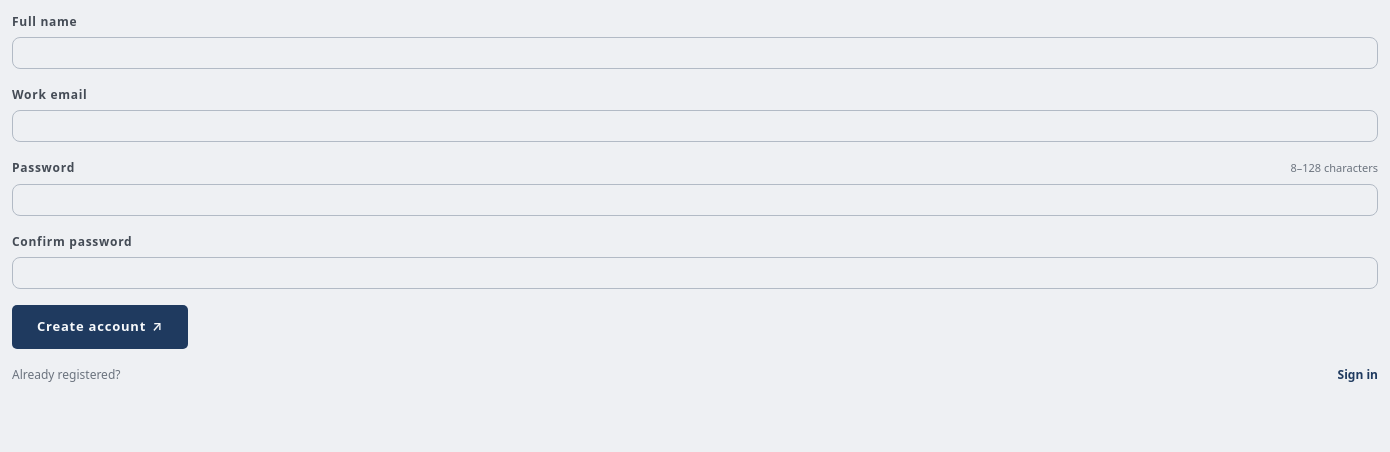
Test: authentication forms › submits a verified-email signup and shows the enumeration-safe response
Type "Alex Rivera" into the field labelled "Full name" at (695, 53), box [12,37,1378,69]
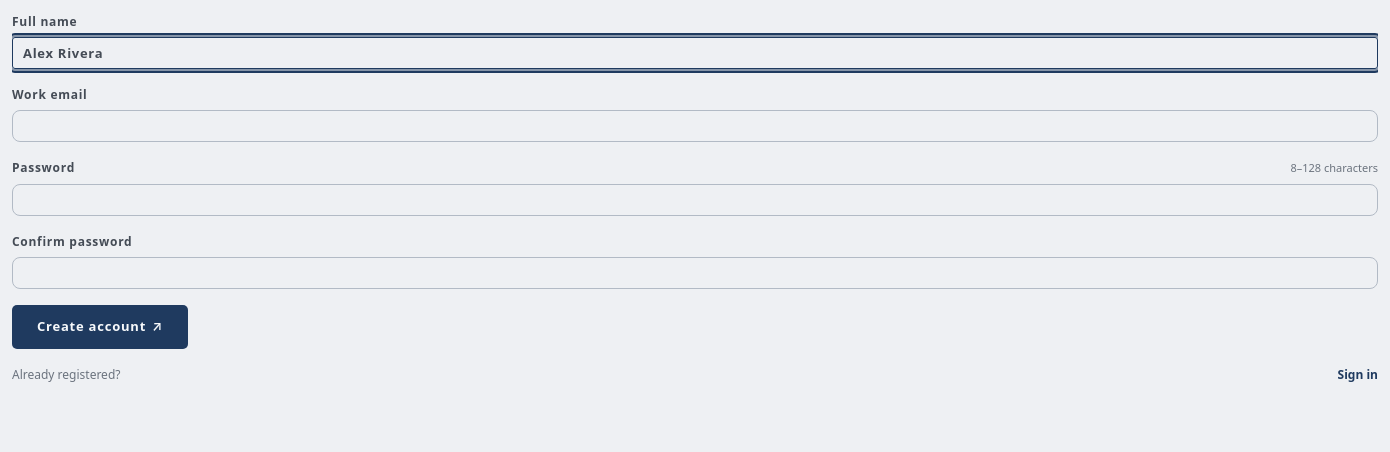
Type "Alex@Example.com" into the field labelled "Work email" at (695, 126), box [12,110,1378,142]
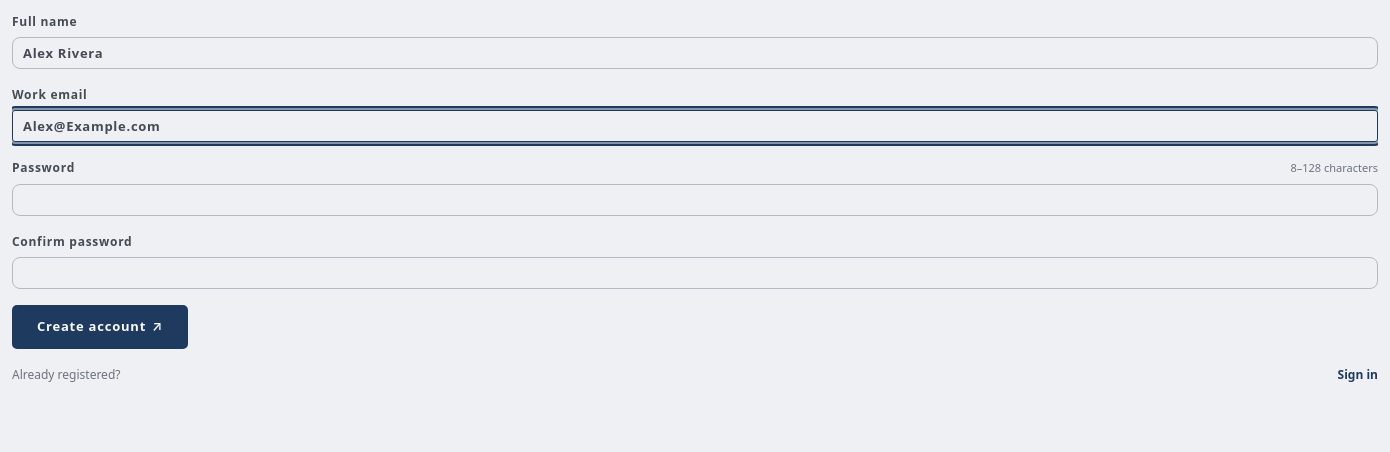
Type "test-password-123" into the password field labelled "Password 8–128 characters" at (695, 200), box [12,184,1378,216]
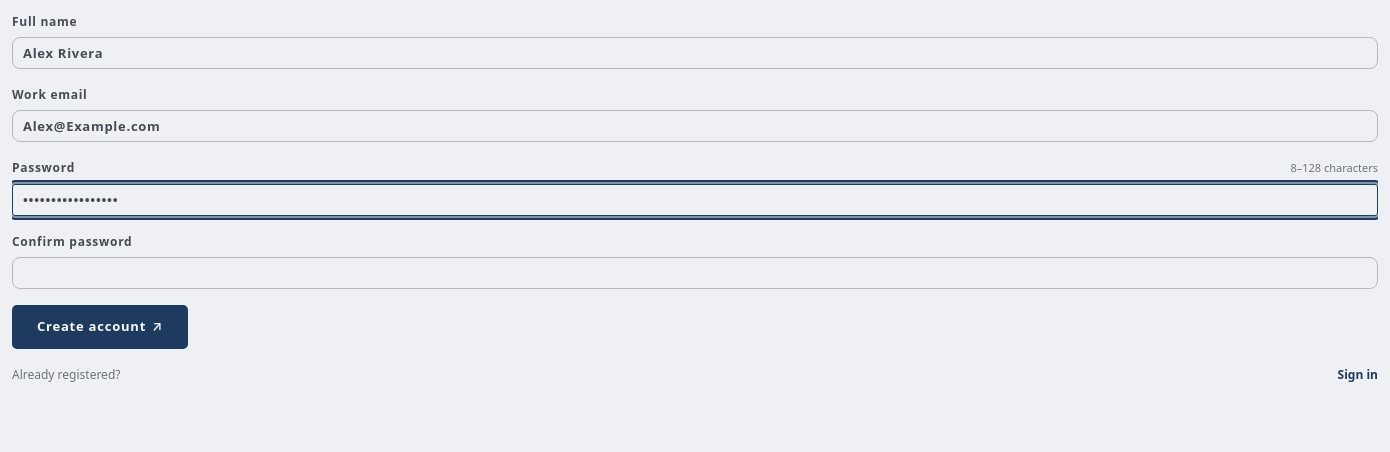
Type "test-password-123" into the password field labelled "Confirm password" at (695, 273), box [12,257,1378,289]
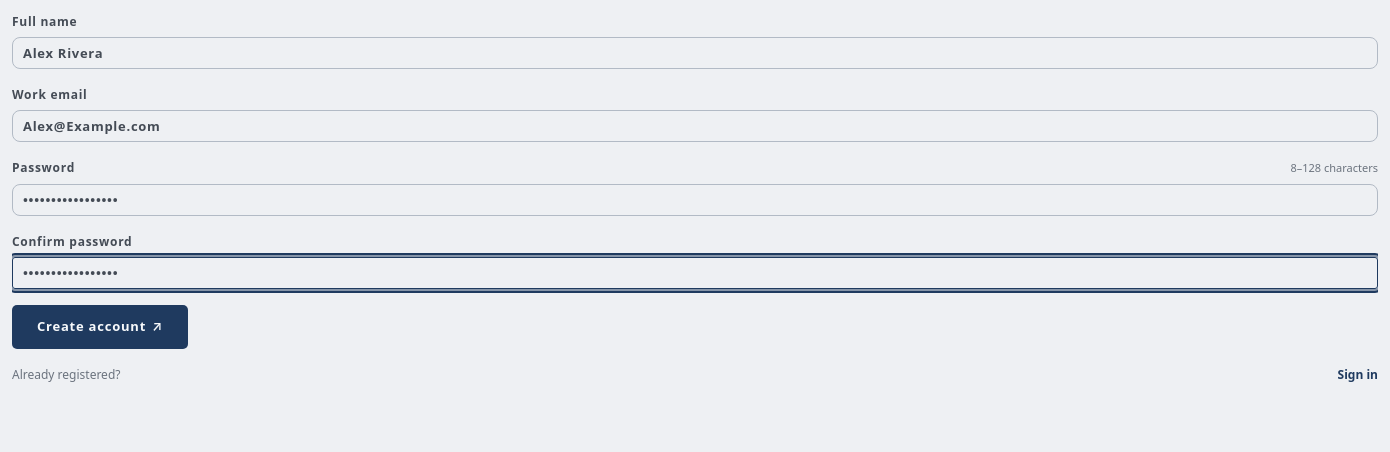
Click the button "Create account ↗" at (100, 327), box [12,305,188,349]
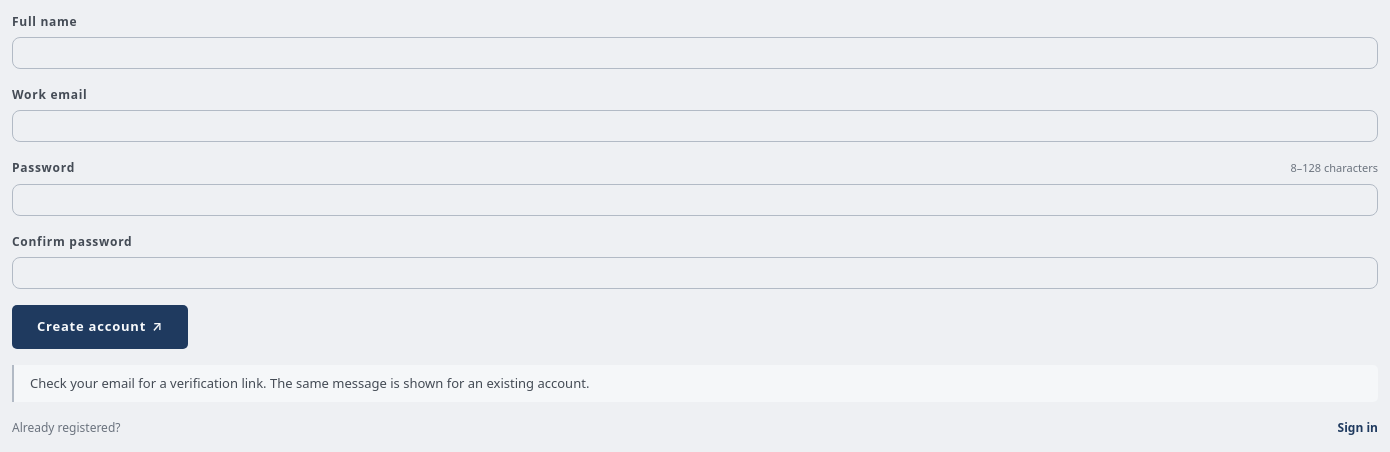
Now the text "same message is shown" is shown, box [30,374,589,392]
